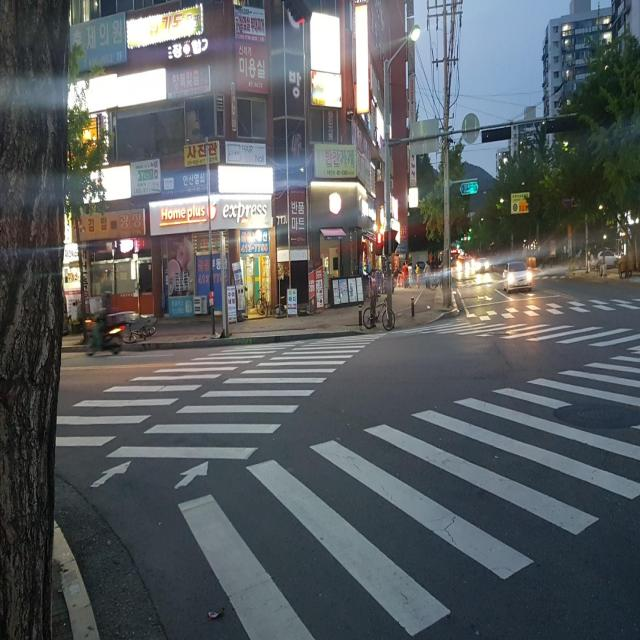빨간불: (374, 230, 386, 256)
횡단보도: (179, 355, 640, 640), (52, 329, 388, 492), (391, 296, 640, 353)
